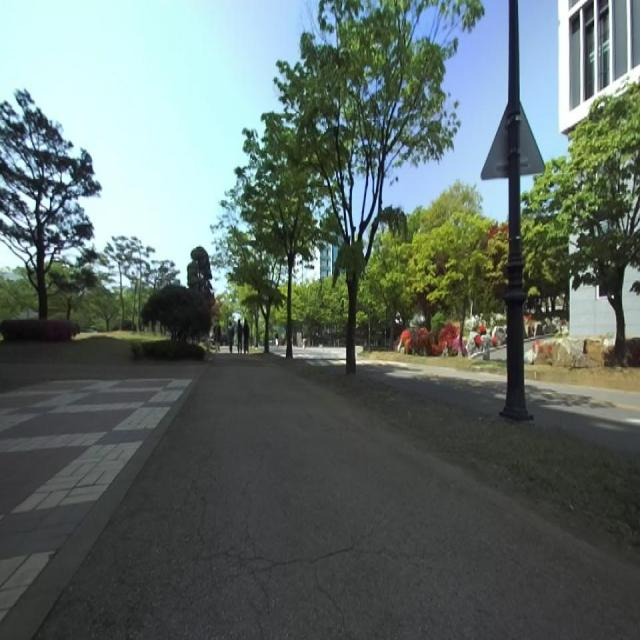sidewalk: (39, 356, 640, 639)
